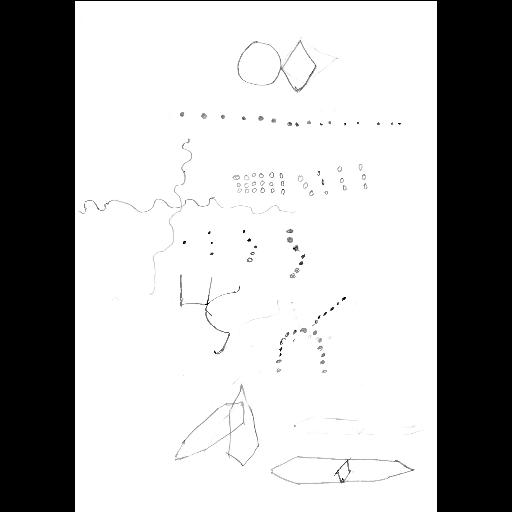shape-1: (236, 33, 316, 97)
shape-2: (170, 102, 404, 132)
shape-3: (230, 157, 372, 201)
shape-4: (177, 223, 309, 279)
shape-5: (175, 270, 245, 356)
shape-6: (274, 291, 348, 379)
shape-7: (75, 136, 301, 296)
shape-8: (172, 383, 260, 471)
shape-9: (267, 450, 419, 492)
